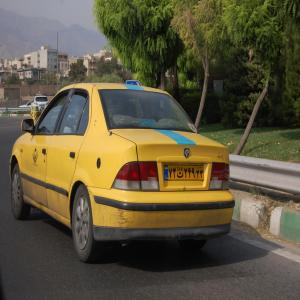Vehicle-registration-plate: (165, 166, 205, 181)
